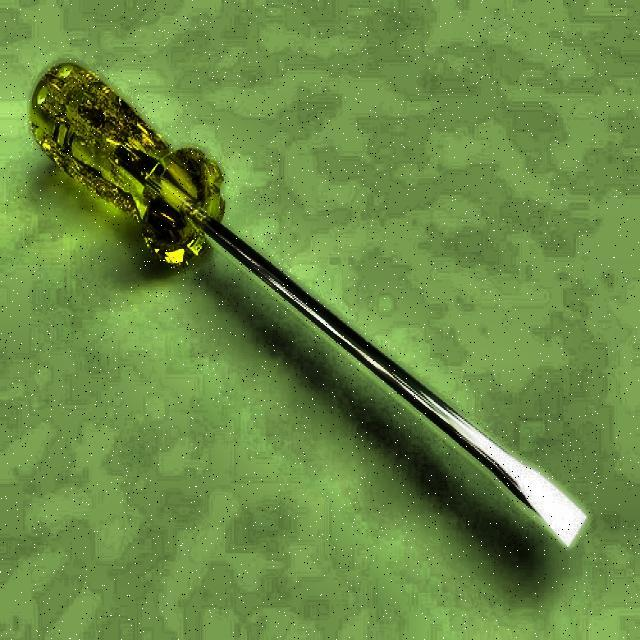screwdriver: (30, 62, 588, 550)
